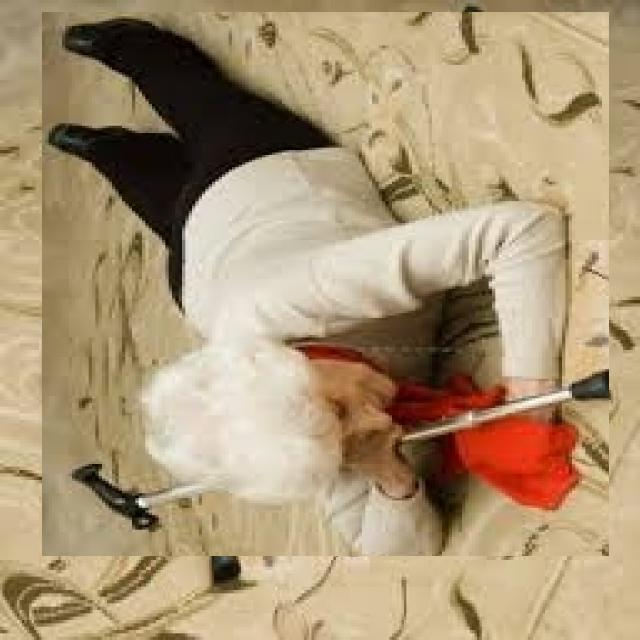Fall: (32, 6, 626, 598)
